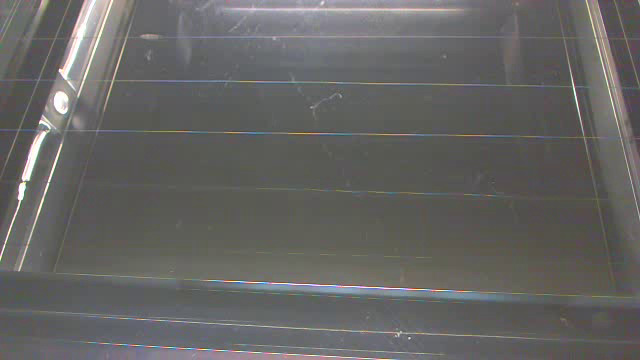alpha: (141, 32, 163, 45)
